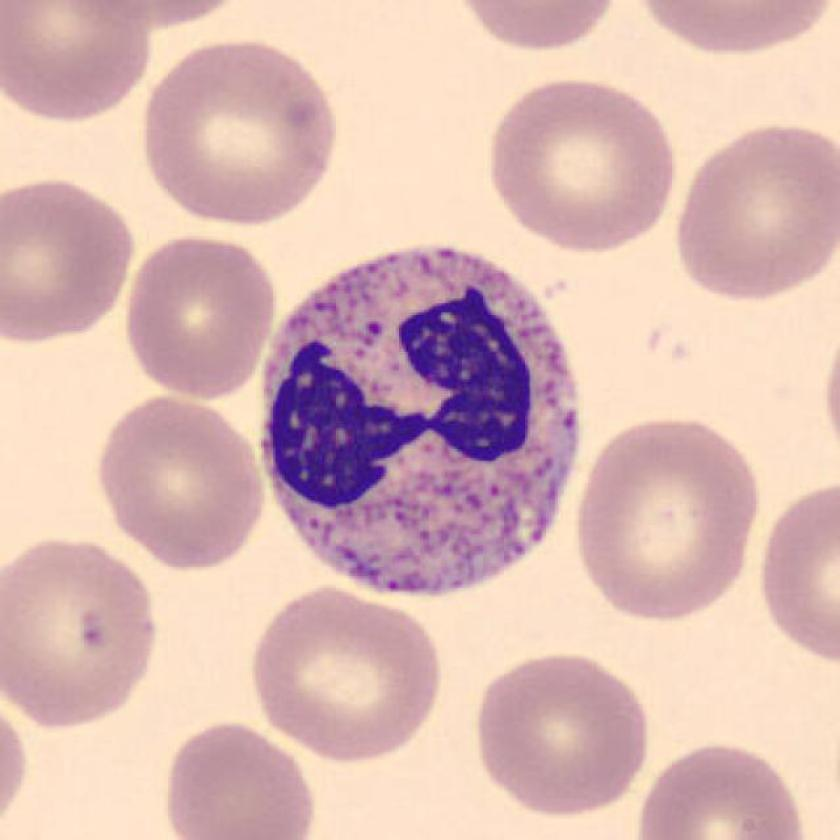neutrophil: (258, 246, 588, 593)
